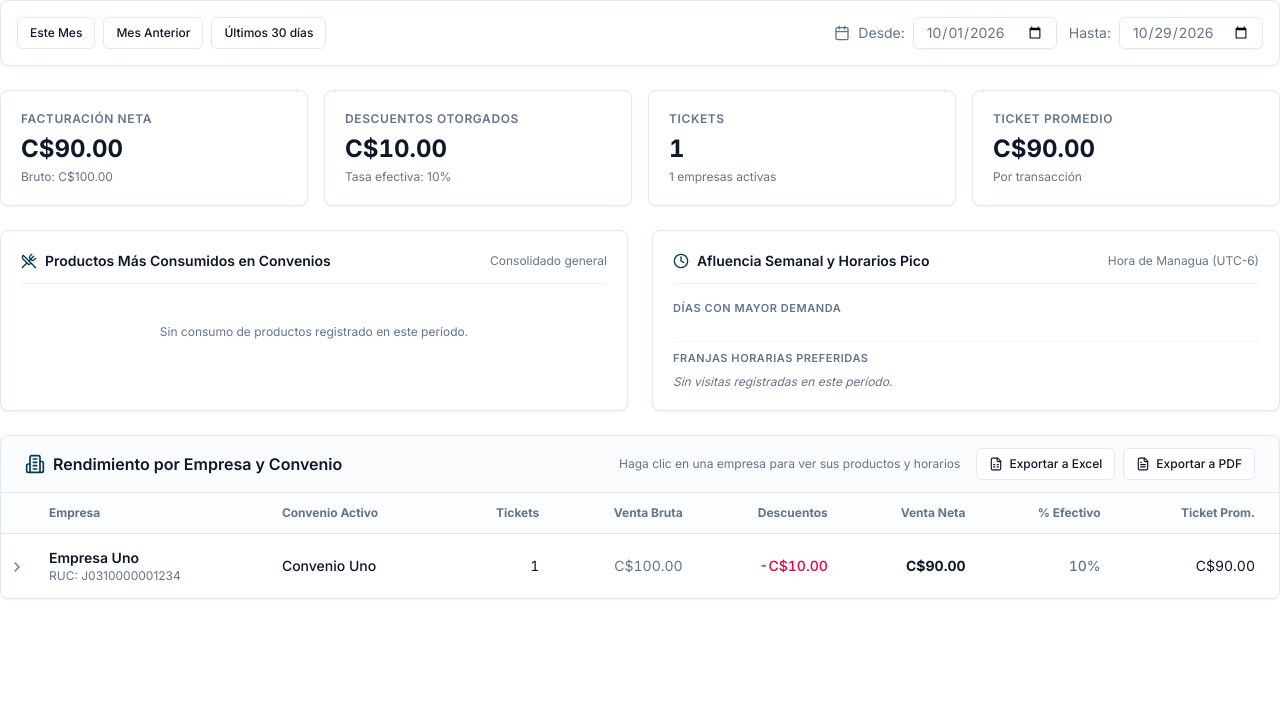
Test: CorporateMetricsTab (Backoffice Standard) › acknowledges the export start and blocks a second download while it runs
Click the button "Exportar a Excel".
click(1046, 464)  # box [976,448,1115,480]
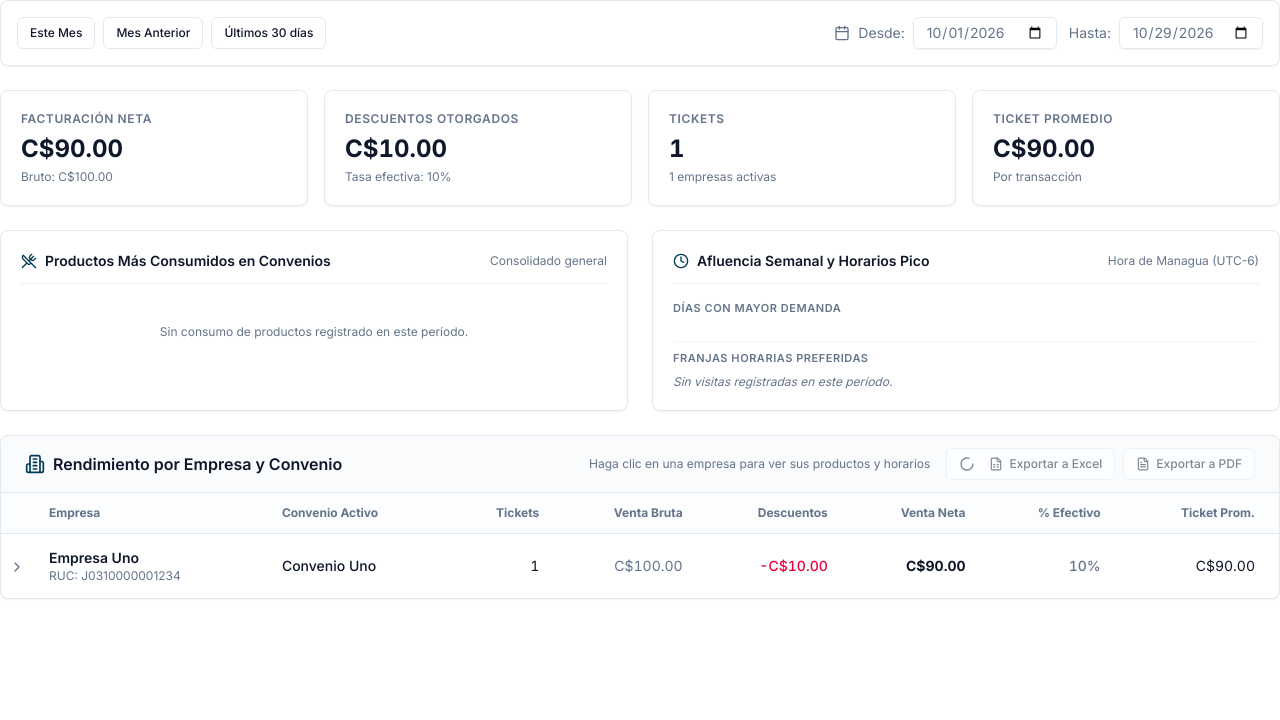
Expected: the button "Exportar a Excel" is disabled, [946,448,1115,480]
Expected: the button "Exportar a PDF" is disabled
Click the button "Exportar a PDF".
click(1189, 464)  # box [1123,448,1255,480]
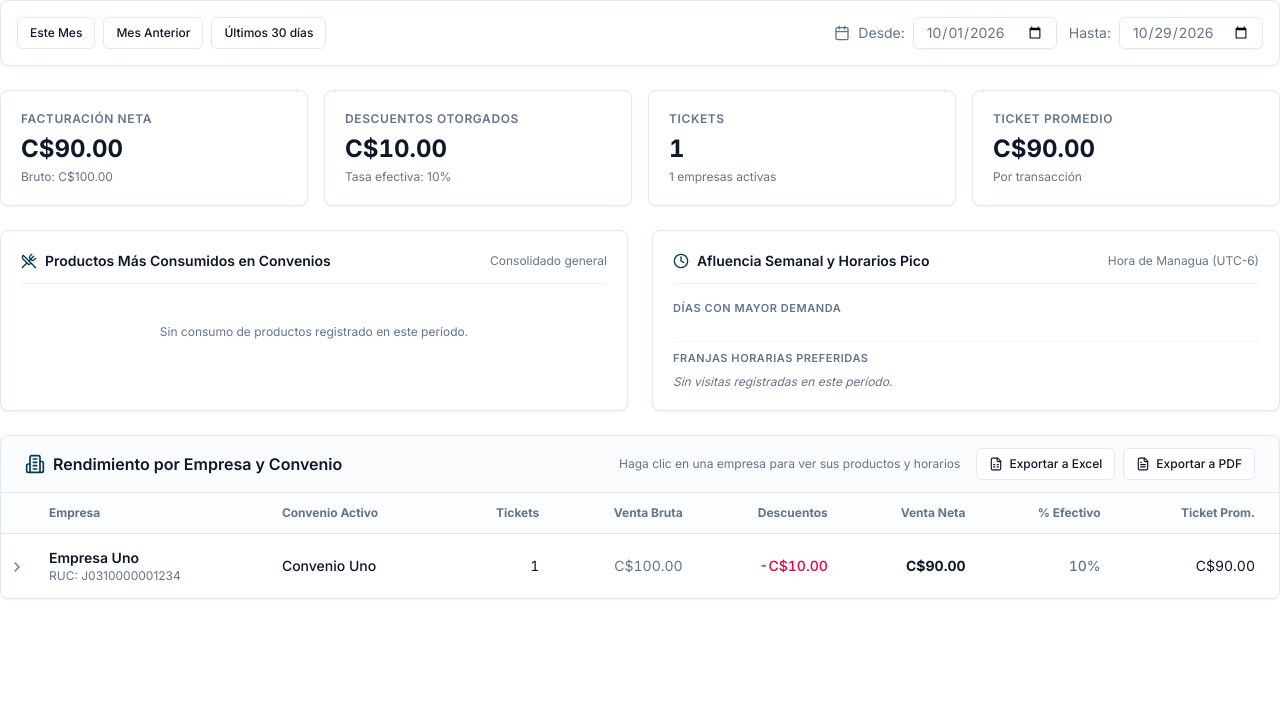
Expected: the button "Exportar a PDF" is enabled, [1123,448,1255,480]
